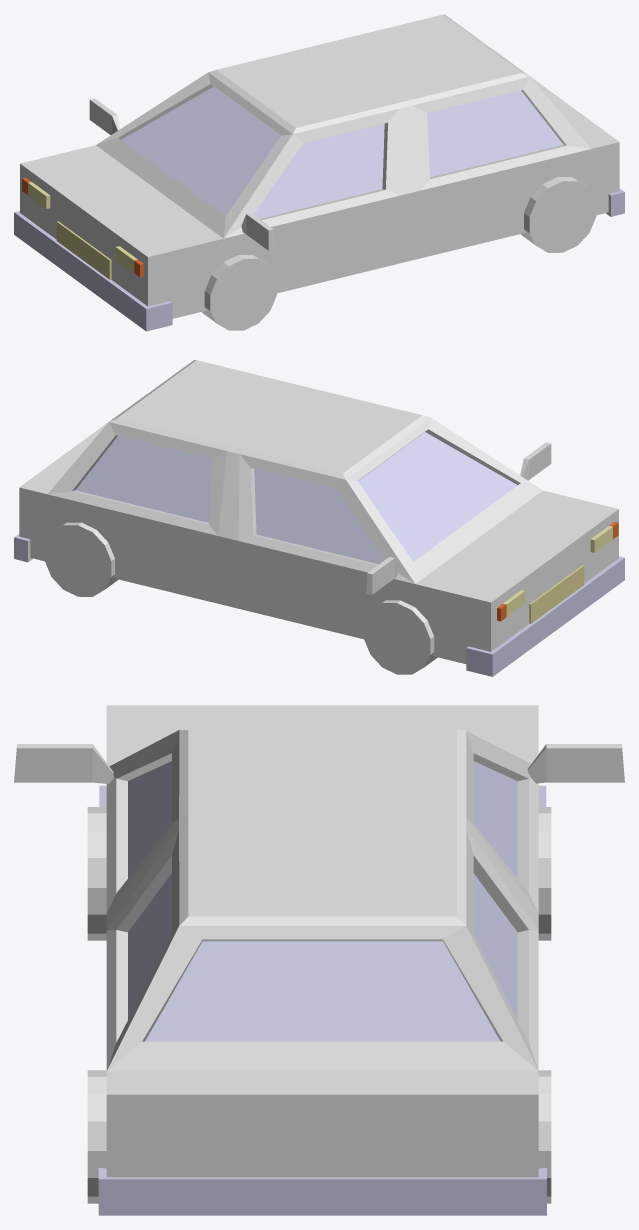
Rendered from car3 (1).fbx.
3 views of the same model, one above another, from view 1: azimuth 30°, elevation 25°; view 2: azimuth 150°, elevation 25°; view 3: azimuth 270°, elevation 25° (orthographic). The views are drawn at different scales.
Parts seen in each view (by area): view 1: Cube.006, Cube.007, Cube.008, Cube.010, Cube.011, Cube.009; view 2: Cube.006, Cube.007, Cube.008, Cube.010, Cube.011, Cube.009; view 3: Cube.006, Cube.010, Cube.007, Cube.008.
Part boxes in pixels (bbox=[...]): Cube.006: bbox=[14, 14, 624, 331]; Cube.007: bbox=[202, 255, 276, 330]; Cube.008: bbox=[521, 177, 596, 252]; Cube.010: bbox=[89, 98, 274, 250]; Cube.011: bbox=[56, 221, 111, 279]; Cube.009: bbox=[22, 177, 143, 277]; Cube.006: bbox=[14, 360, 624, 676]; Cube.007: bbox=[363, 600, 437, 674]; Cube.008: bbox=[44, 522, 118, 596]; Cube.010: bbox=[366, 442, 551, 594]; Cube.011: bbox=[529, 565, 584, 623]; Cube.009: bbox=[497, 521, 618, 621]; Cube.006: bbox=[98, 705, 546, 1215]; Cube.010: bbox=[14, 744, 624, 783]; Cube.007: bbox=[87, 807, 551, 940]; Cube.008: bbox=[87, 1070, 551, 1203].
Bounding box in the file's own units: 596 × 191 × 390.
